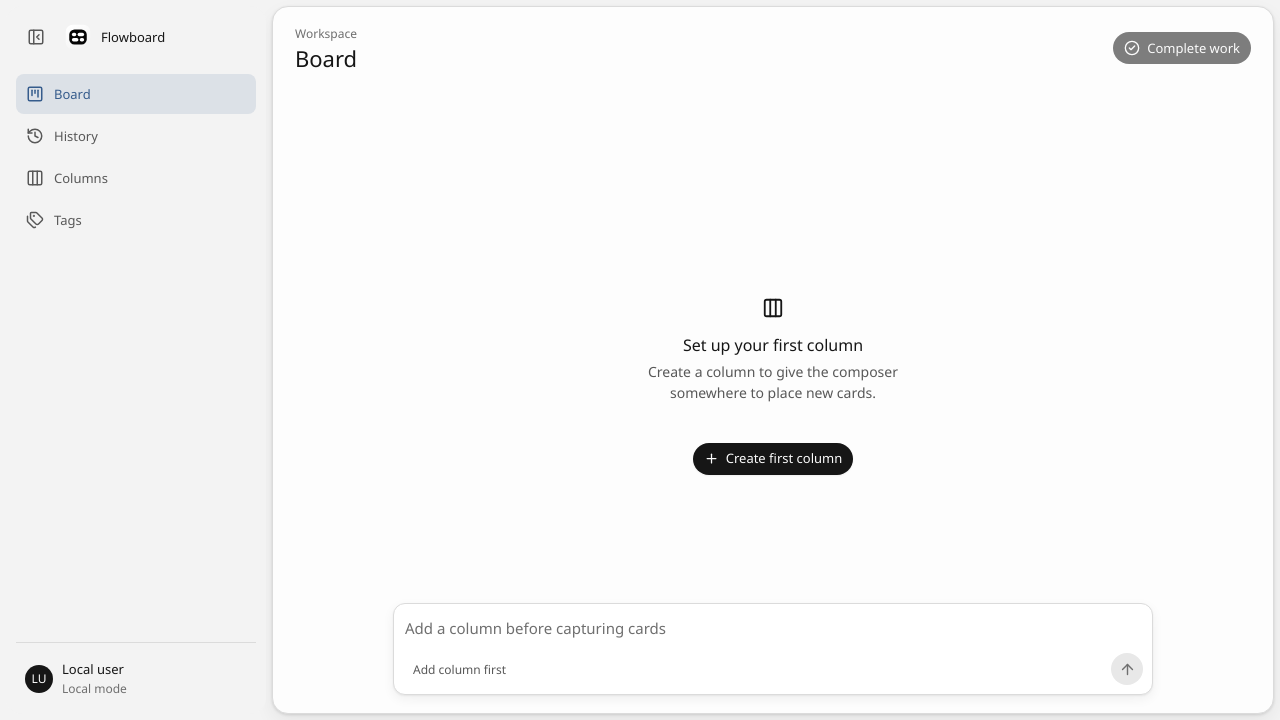
Scenario: guides empty-board setup from the board and composer
Expected: the heading "Set up your first column" is shown, [683,334,863,356]
Expected: the text "Create a column to give the composer somewhere to place new cards." is shown, [633,362,913,403]
Step 1. Click the button "Add column first" → click(460, 669), box [403,654,516,684]
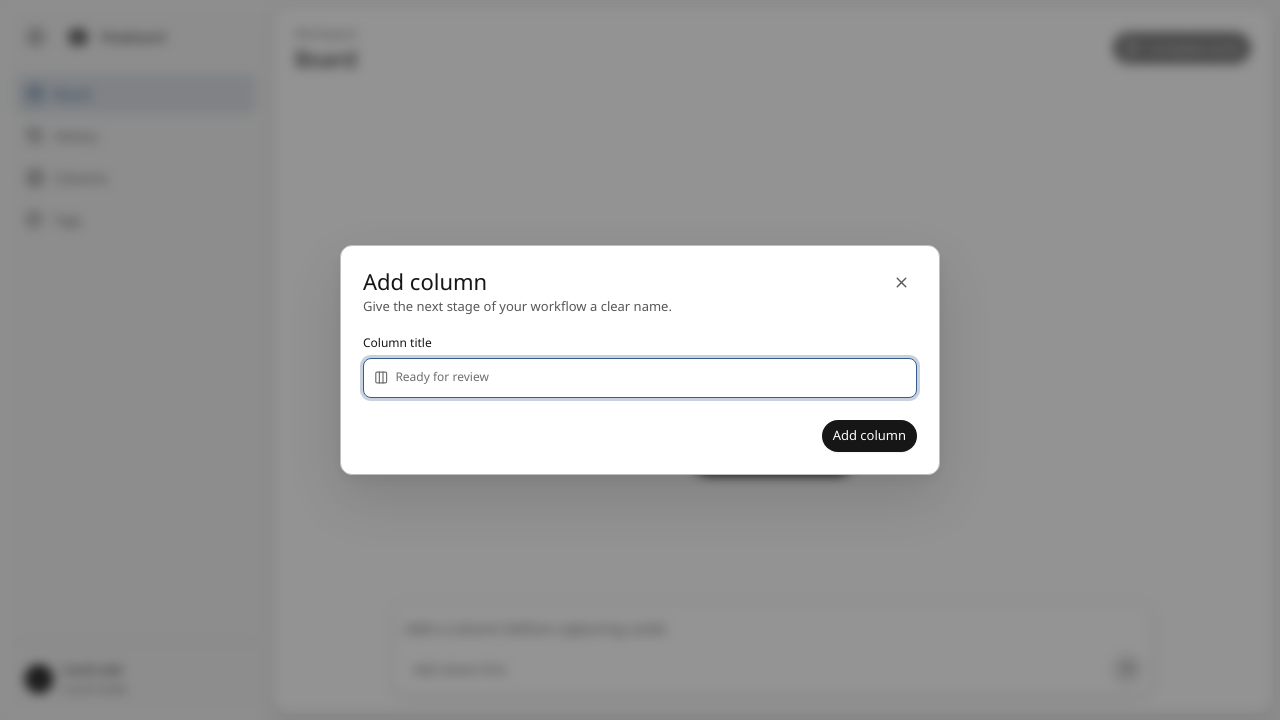
Expected: the field labelled "Column title" is shown, [395,359,906,396]
Step 2. Click the button named "close dialog" → click(901, 282), box [885,266,917,298]
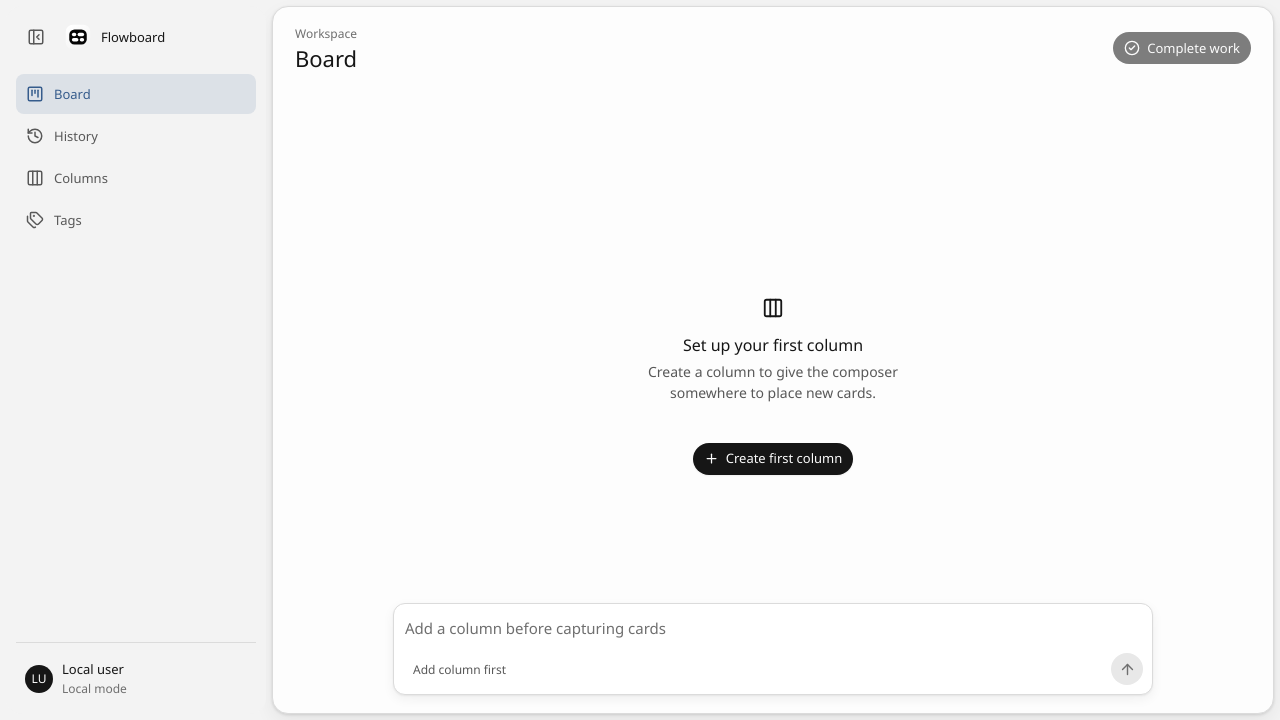
Step 3. Click the button "Create first column" → click(773, 459), box [693,443,853,475]
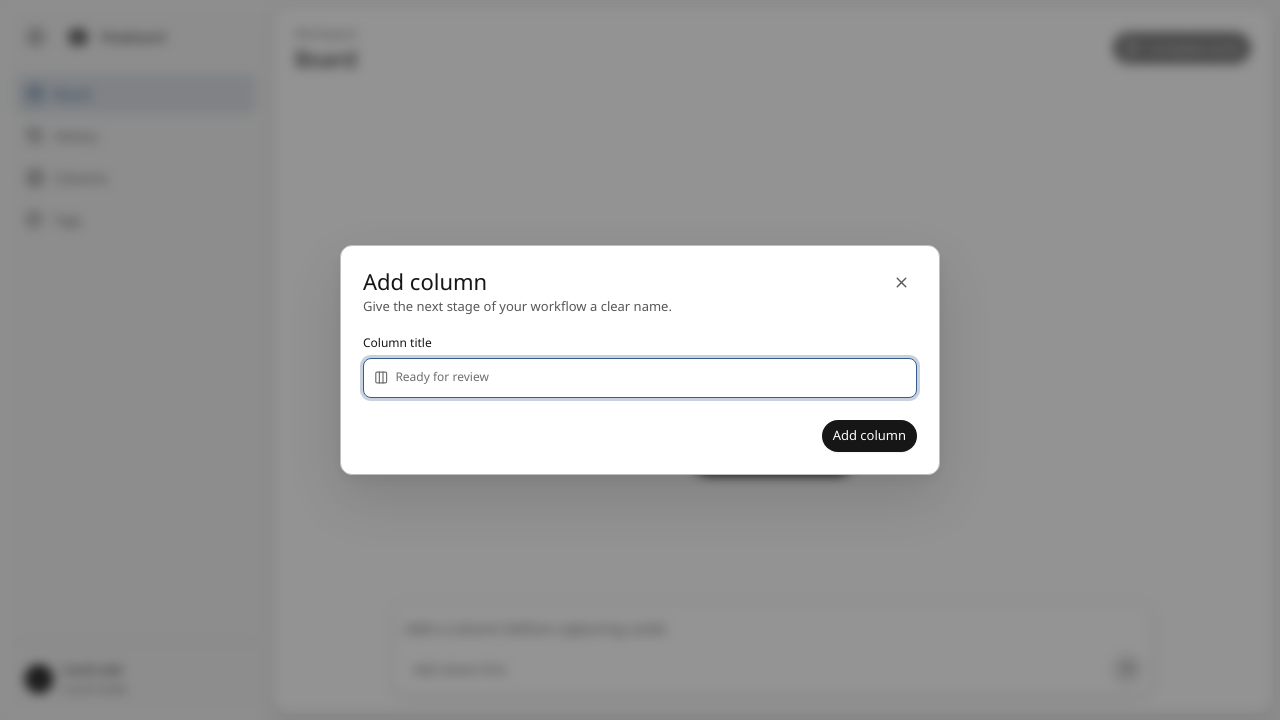
Expected: the field labelled "Column title" is shown, [395,359,906,396]
